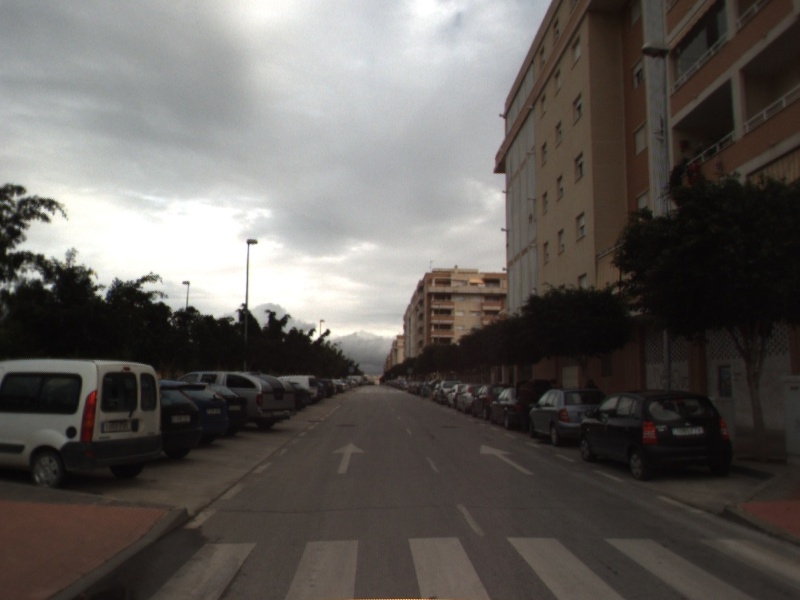STRAIGHT: (477, 442, 536, 476), (330, 440, 367, 475)
